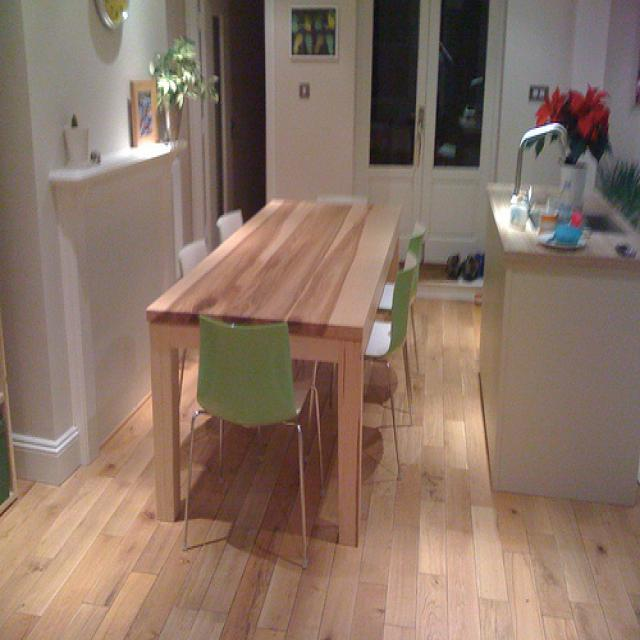table: (146, 194, 409, 554)
